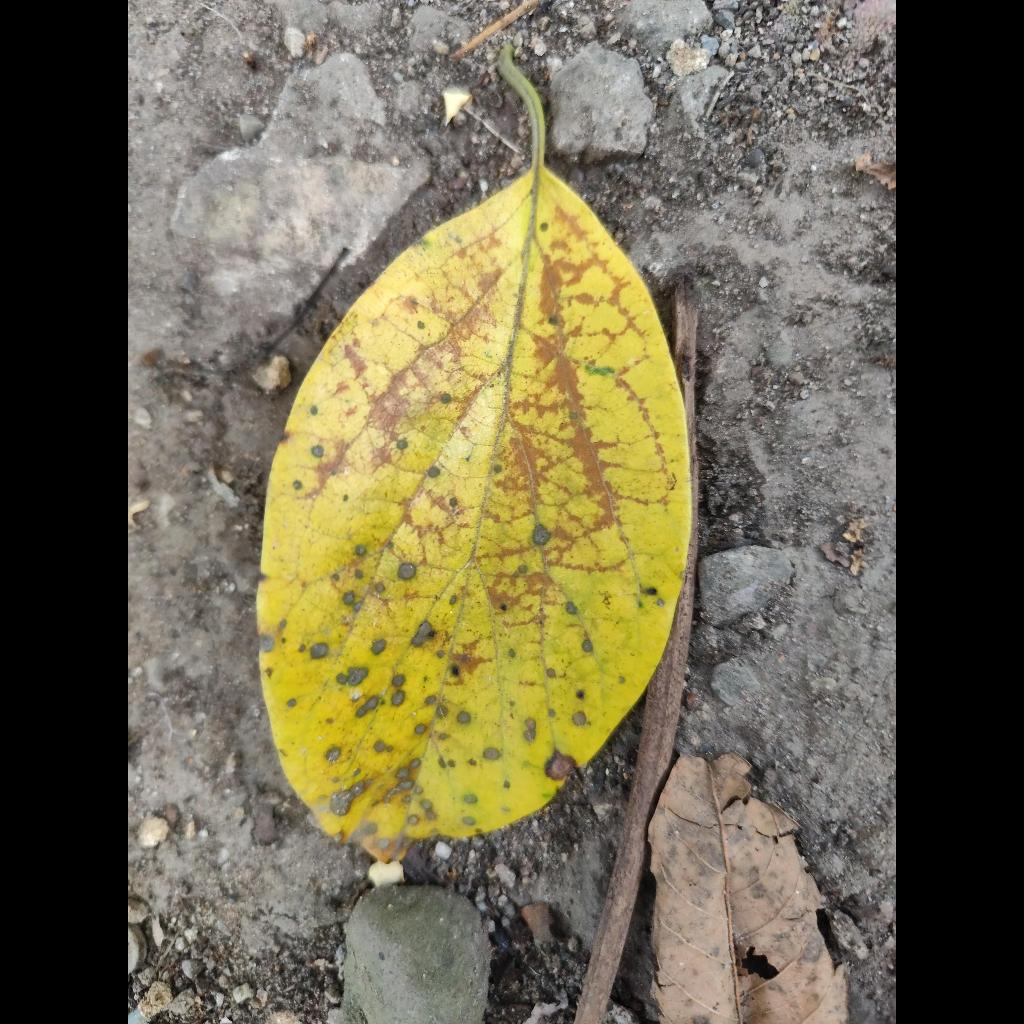nutrient_deficiency: (258, 57, 691, 860)
